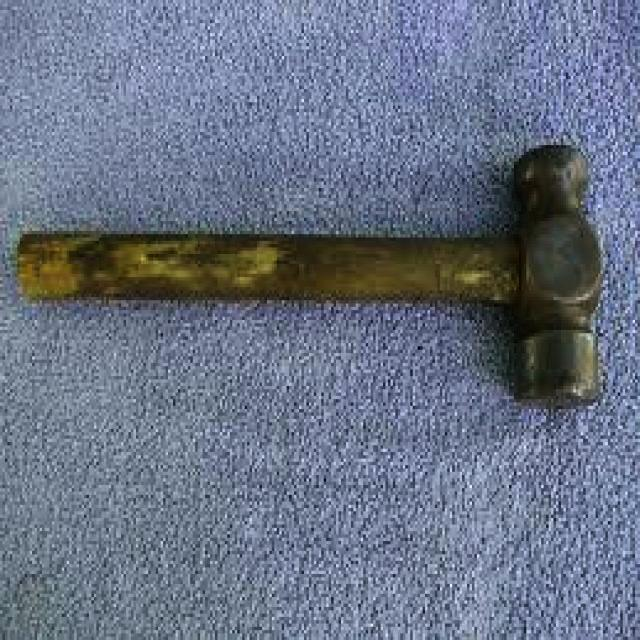hammer: (14, 133, 606, 414)
